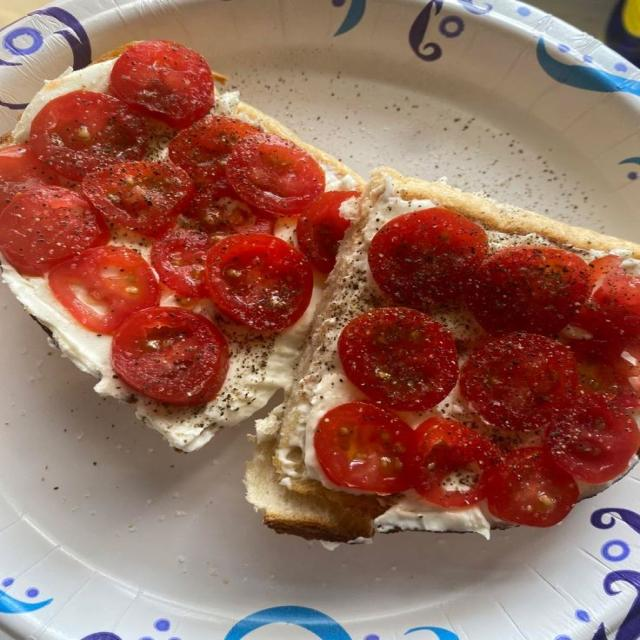sliced_bread: (0, 257, 323, 452), (372, 167, 639, 258), (243, 426, 371, 542), (33, 61, 112, 111)
sliced_tomato: (339, 308, 458, 410), (369, 207, 487, 308), (112, 307, 229, 405), (460, 334, 578, 430), (466, 246, 589, 334), (29, 91, 148, 180), (207, 234, 313, 331), (48, 245, 159, 333), (0, 187, 109, 276), (110, 40, 213, 128), (314, 402, 413, 493), (82, 161, 194, 237), (546, 395, 639, 484), (227, 134, 325, 216), (414, 418, 499, 507), (487, 448, 579, 527), (572, 256, 639, 344), (168, 116, 260, 180), (185, 179, 274, 240), (297, 191, 359, 273), (567, 339, 639, 409), (152, 229, 211, 298), (0, 144, 59, 207), (588, 255, 622, 288)
